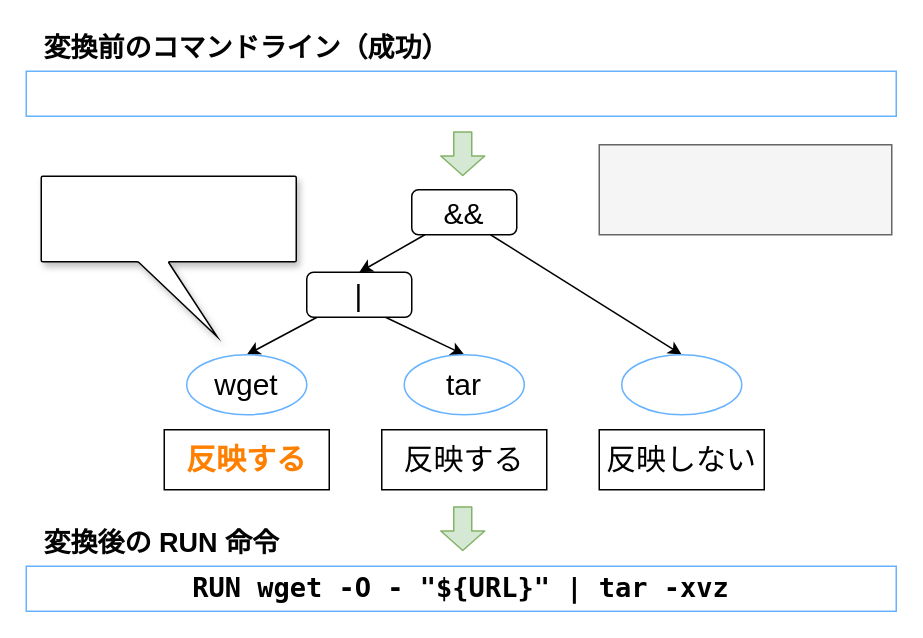
This 923x638 diagram has some shape labels left out. The centre of each missing label's shape, as x and y in pixels:
dir: point (681, 384)
wget -O - "${URL}" | tar -xvz && dir -AFl bash-5.1.16: point (460, 93)
パイプラインに対する反映ルールより: point (169, 258)
反映モード : strict ignoreファイル : 先述: point (745, 189)
